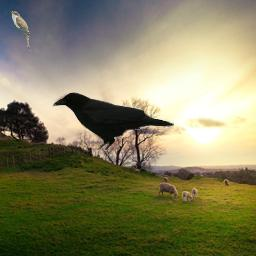Crow: (49, 89, 174, 151)
Cuckoo: (9, 10, 31, 51)
